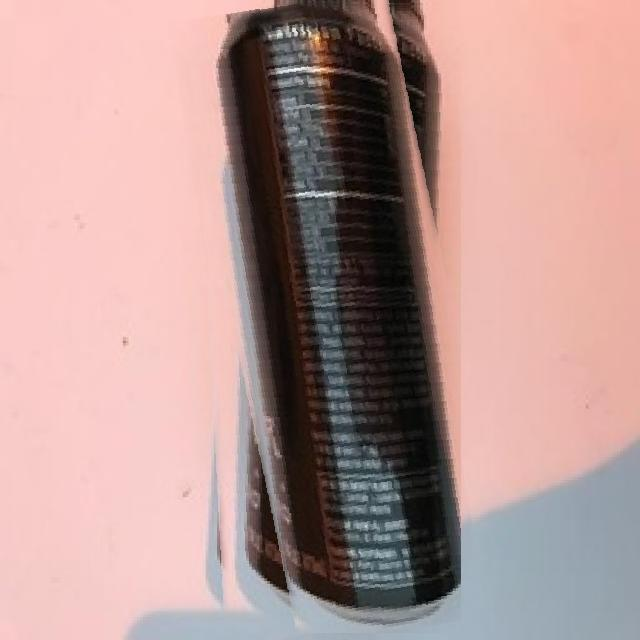recyclable: (192, 0, 461, 633)
